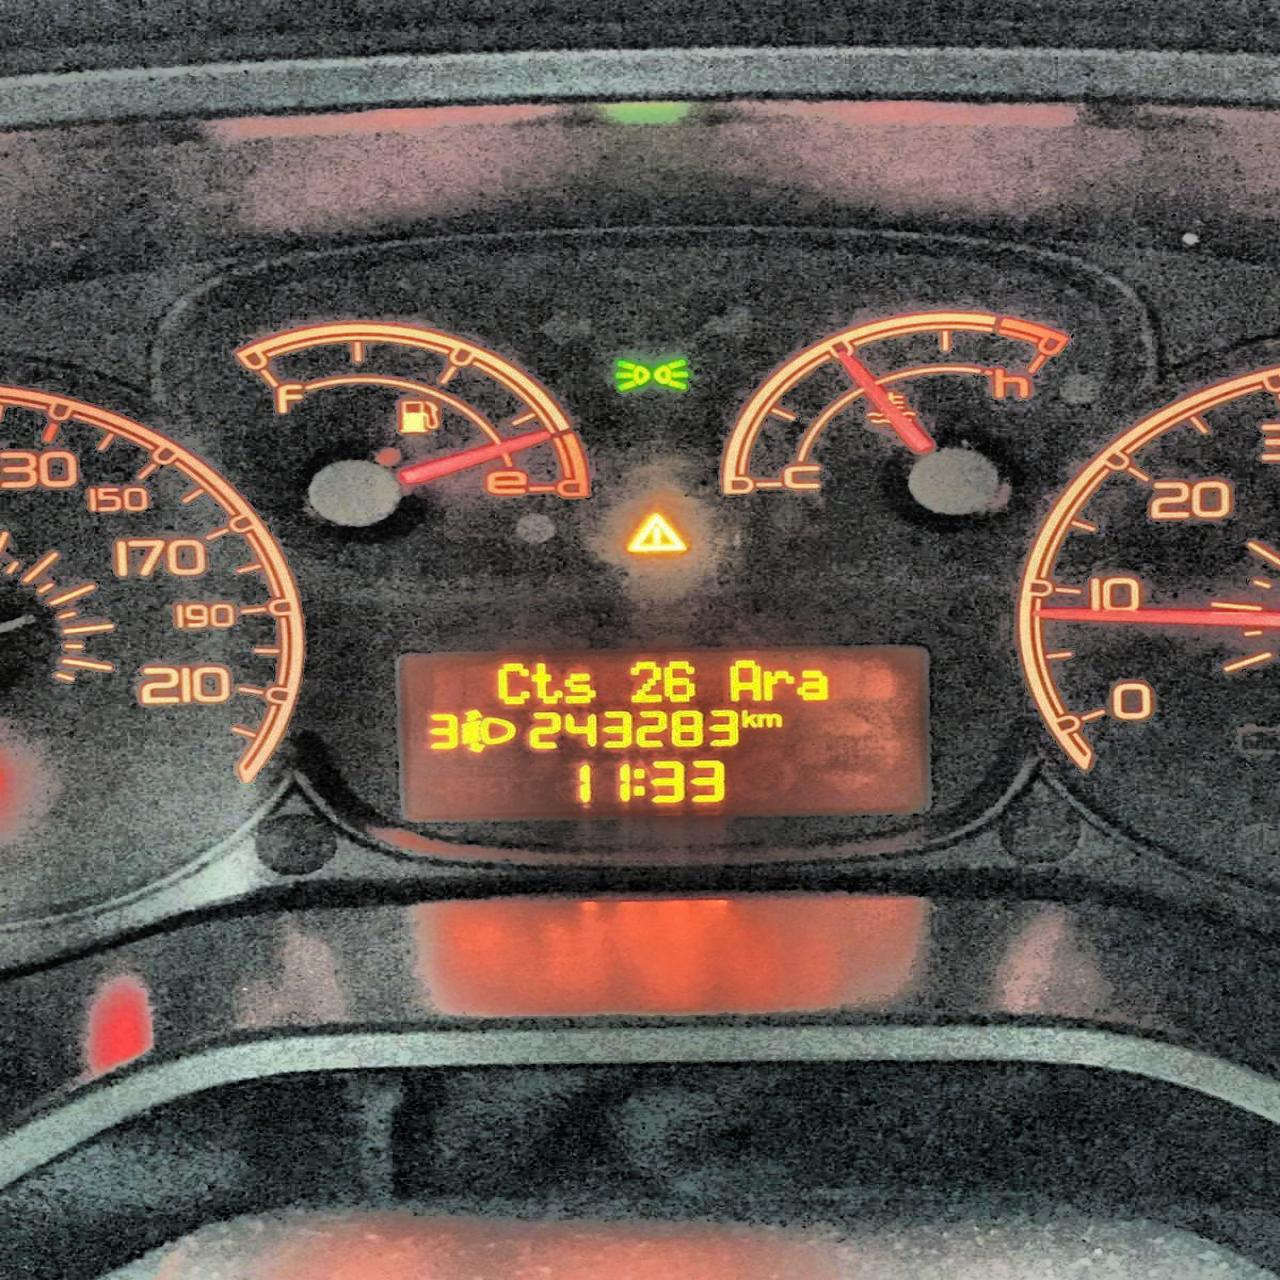1: (576, 762, 592, 803), (614, 762, 629, 802)
2: (629, 660, 663, 702), (635, 708, 667, 748), (529, 709, 560, 749)
3: (651, 758, 686, 804), (692, 757, 724, 804), (602, 708, 632, 749), (708, 707, 738, 745), (429, 713, 459, 750)
4: (563, 712, 595, 747)
6: (665, 659, 700, 703)
8: (670, 708, 704, 747)
X: (728, 660, 763, 702), (496, 660, 529, 704), (531, 661, 563, 704), (762, 668, 796, 702), (564, 669, 595, 704), (797, 666, 829, 700), (741, 707, 761, 730), (633, 767, 647, 799), (757, 713, 784, 728)
odometer: (397, 651, 932, 815)
